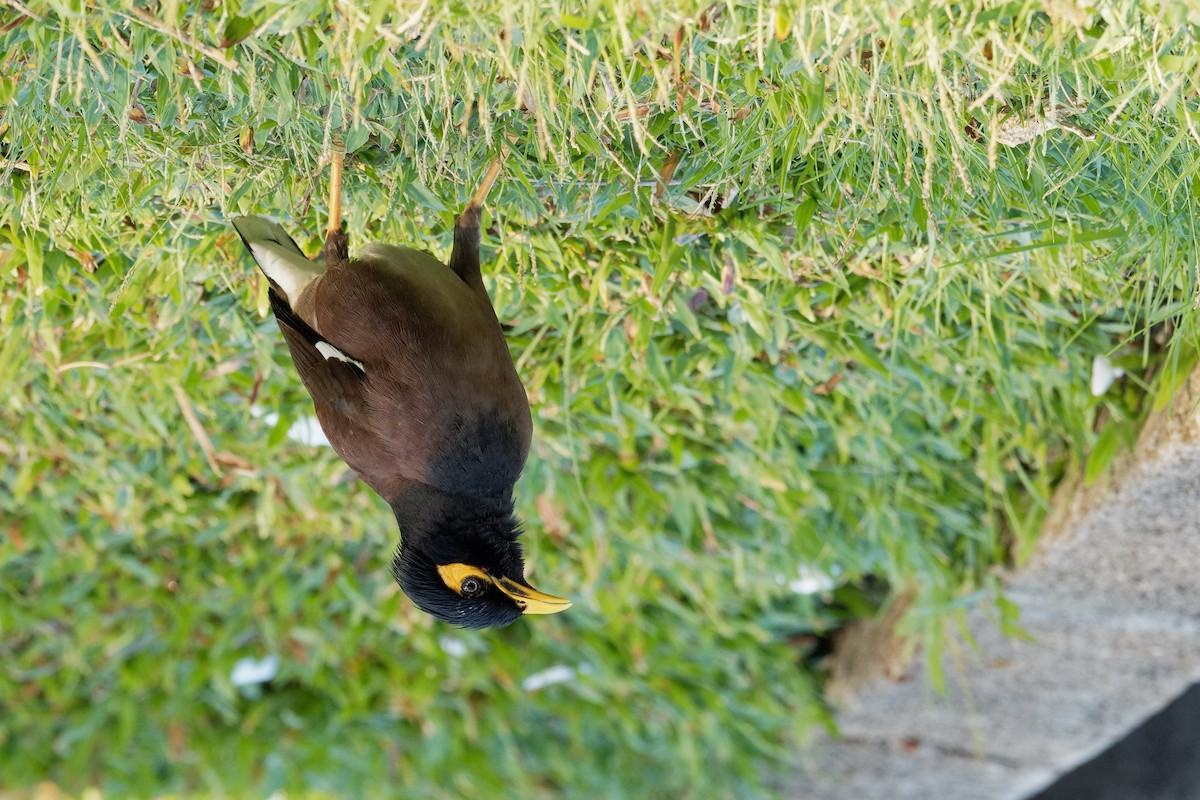myna: (215, 158, 587, 654)
